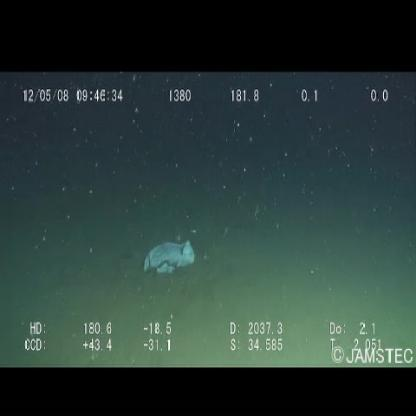Rác: (142, 242, 195, 276)
